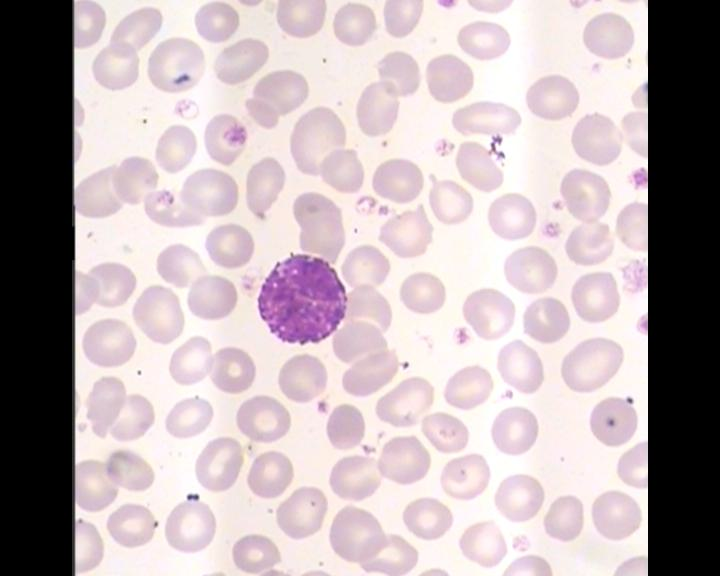baso: (254, 245, 353, 349)
